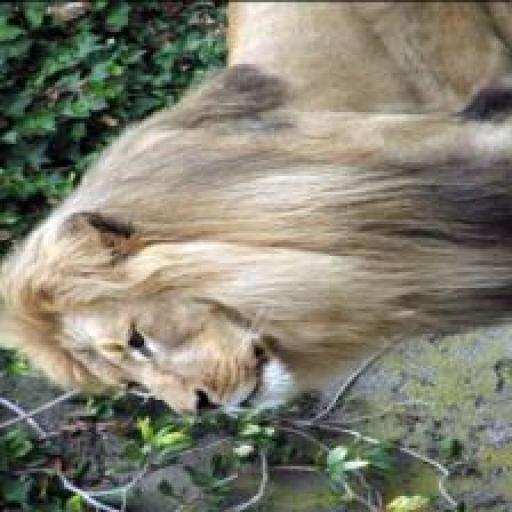lion: (2, 0, 511, 439)
